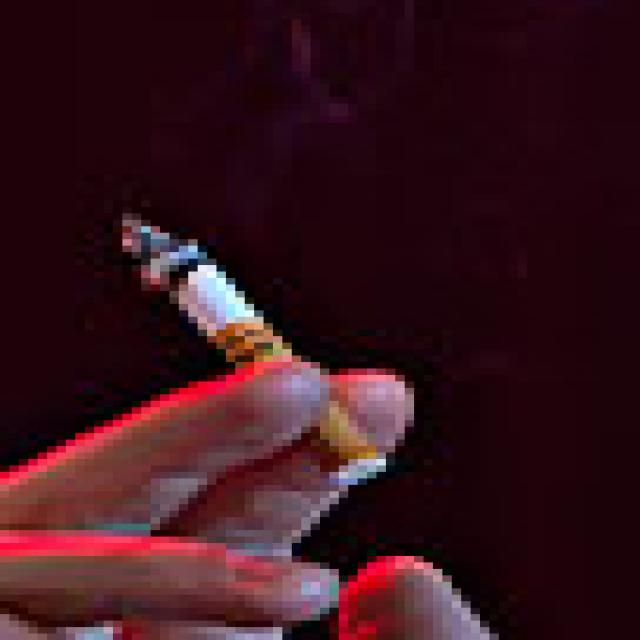smoke: (107, 212, 416, 503)
